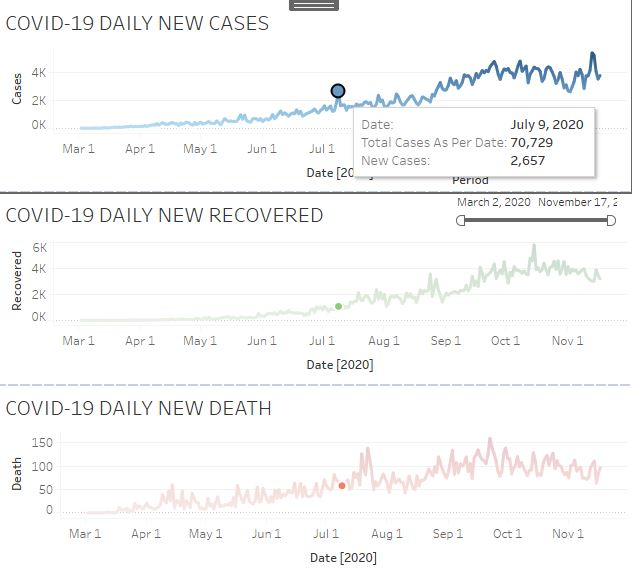

This screenshot's page, from the dashboard's own definition file:
{"tool":"tableau","page":{"name":"Dashboard 2","canvas":[650,860],"ordinal":1},"visuals":[{"type":"worksheet","box":[0,0,650,860]},{"type":"worksheet","param":"horz","box":[8,11.6,634,836.8]},{"type":"worksheet","param":"horz","box":[8,11.6,634,836.8]},{"type":"worksheet","box":[8,11.6,634,836.8]},{"type":"worksheet","title":"daily new case","mark":"Line","rows":["Kasus baru"],"cols":["F1"],"box":[8,11.6,634,278.9]},{"type":"worksheet","title":"daily new case","mark":"Line","rows":["Kasus baru"],"cols":["F1"],"param":"[federated.006cj7415btlzn1edcbj20br0aqk].[tdy:F1:qk]","box":[463,259.6,168,100.1]},{"type":"worksheet","title":"daily new recover","mark":"Automatic","rows":["Sembuh (baru)"],"cols":["F1"],"box":[8,290.5,634,278.9]},{"type":"worksheet","title":"daily new death","mark":"Automatic","rows":["Meninggal (baru)"],"cols":["F1"],"box":[8,569.5,634,278.9]}]}

Visuals, with their boxes on the page's 650x860 design canvas (x1, y1, x2, y2). These are canvas units, not pixel positions in the 632x576 screenshot, which may show the page scaled, cropped or inside an application window:
worksheet: [x1=0, y1=0, x2=650, y2=860]
worksheet: [x1=8, y1=12, x2=642, y2=848]
worksheet: [x1=8, y1=12, x2=642, y2=848]
worksheet: [x1=8, y1=12, x2=642, y2=848]
"daily new case" worksheet (Line marks): [x1=8, y1=12, x2=642, y2=290]
"daily new case" worksheet (Line marks): [x1=463, y1=260, x2=631, y2=360]
"daily new recover" worksheet: [x1=8, y1=290, x2=642, y2=569]
"daily new death" worksheet: [x1=8, y1=570, x2=642, y2=848]
